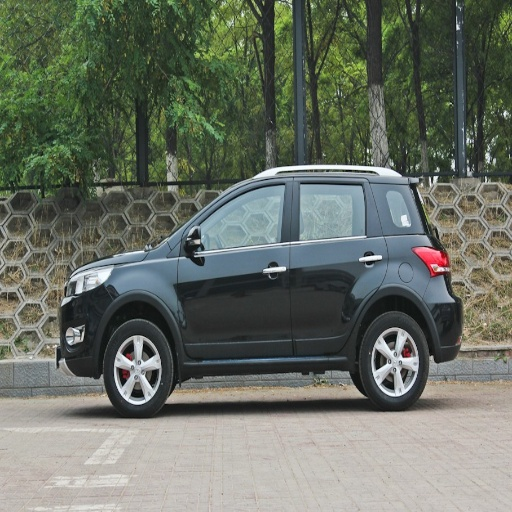back_left_door: (294, 173, 386, 354)
front_left_door: (177, 174, 293, 358)
